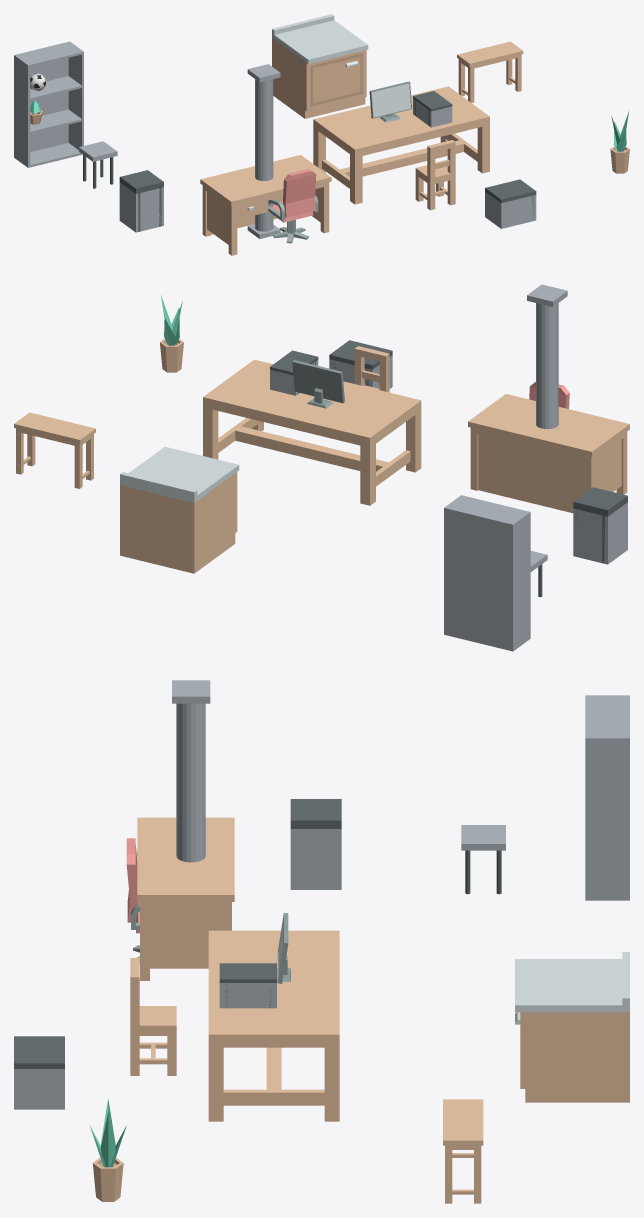
The picture shows the model from 3 angles, top to bottom: view 1: azimuth 30°, elevation 25°; view 2: azimuth 150°, elevation 25°; view 3: azimuth 270°, elevation 25°; orthographic projection. The views are drawn at different scales.
Visible parts, largest first — view 1: table_green__table(Clone), cabinet_blue__kitchenCabinet(Clone), desk_blue__desk(Clone), column_cyan__column_cyan shaft, cabinet_blue__door, chair_cyan__chair(Clone), shelf_orange__shelf_orange back, sidetable_brown__sideTable(Clone), deskchair_black__chair, shelf_orange__shelf_orange side_l, bin_gray__bin_gray shell, crate_red__crate_red shell (+15 smaller); view 2: table_green__table(Clone), desk_blue__desk(Clone), cabinet_blue__kitchenCabinet(Clone), shelf_orange__shelf_orange back, sidetable_brown__sideTable(Clone), column_cyan__column_cyan shaft, shelf_orange__shelf_orange side_l, bin_gray__bin_gray shell, monitor_gray__computerScreen(Clone), chair_cyan__chair(Clone), shelf_orange__shelf_orange board3, bin_gray__bin_gray lid (+7 smaller); view 3: table_green__table(Clone), cabinet_blue__kitchenCabinet(Clone), desk_blue__desk(Clone), shelf_orange__shelf_orange side_r, column_cyan__column_cyan shaft, bin_gray__bin_gray shell, sidetable_brown__sideTable(Clone), chair_cyan__chair(Clone), crate_red__crate_red shell, shelf_orange__shelf_orange board3, crate_red__crate_red lid, bin_gray__bin_gray lid (+7 smaller).
Boxes of the visible parts, left/top/right/bottom form: table_green__table(Clone): left=313, top=86, right=489, bottom=204; cabinet_blue__kitchenCabinet(Clone): left=272, top=14, right=368, bottom=118; desk_blue__desk(Clone): left=200, top=155, right=331, bottom=255; column_cyan__column_cyan shaft: left=255, top=79, right=273, bottom=231; cabinet_blue__door: left=310, top=53, right=362, bottom=106; chair_cyan__chair(Clone): left=415, top=140, right=455, bottom=210; shelf_orange__shelf_orange back: left=16, top=42, right=68, bottom=151; sidetable_brown__sideTable(Clone): left=457, top=41, right=523, bottom=102; deskchair_black__chair: left=268, top=169, right=318, bottom=222; shelf_orange__shelf_orange side_l: left=14, top=54, right=30, bottom=167; bin_gray__bin_gray shell: left=119, top=182, right=163, bottom=232; crate_red__crate_red shell: left=485, top=191, right=536, bottom=228; table_green__table(Clone): left=203, top=359, right=421, bottom=505; desk_blue__desk(Clone): left=468, top=394, right=629, bottom=513; cabinet_blue__kitchenCabinet(Clone): left=120, top=446, right=239, bottom=573; shelf_orange__shelf_orange back: left=446, top=508, right=510, bottom=650; sidetable_brown__sideTable(Clone): left=14, top=412, right=95, bottom=488; column_cyan__column_cyan shaft: left=536, top=303, right=558, bottom=428; shelf_orange__shelf_orange side_l: left=510, top=511, right=530, bottom=651; bin_gray__bin_gray shell: left=573, top=502, right=627, bottom=564; monitor_gray__computerScreen(Clone): left=292, top=360, right=344, bottom=408; chair_cyan__chair(Clone): left=354, top=346, right=389, bottom=392; shelf_orange__shelf_orange board3: left=448, top=496, right=527, bottom=523; bin_gray__bin_gray lid: left=573, top=487, right=627, bottom=516; table_green__table(Clone): left=208, top=930, right=339, bottom=1121; cabinet_blue__kitchenCabinet(Clone): left=515, top=952, right=629, bottom=1102; desk_blue__desk(Clone): left=137, top=817, right=234, bottom=980; shelf_orange__shelf_orange side_r: left=585, top=737, right=629, bottom=900; column_cyan__column_cyan shaft: left=176, top=703, right=205, bottom=862; bin_gray__bin_gray shell: left=290, top=829, right=341, bottom=889; sidetable_brown__sideTable(Clone): left=443, top=1099, right=483, bottom=1203; chair_cyan__chair(Clone): left=130, top=958, right=176, bottom=1075; crate_red__crate_red shell: left=14, top=1069, right=64, bottom=1109; shelf_orange__shelf_orange board3: left=585, top=697, right=627, bottom=736; crate_red__crate_red lid: left=14, top=1036, right=64, bottom=1068; bin_gray__bin_gray lid: left=290, top=799, right=341, bottom=828.
Bounding box in the file's own units: 6.43 × 2.2 × 4.82.
